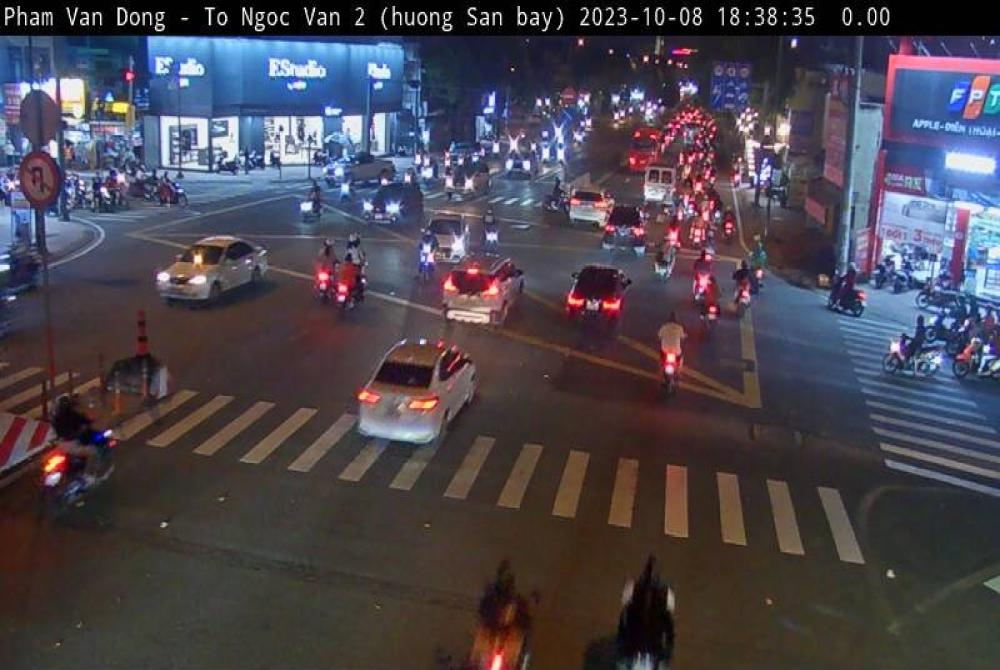car: (356, 338, 479, 444), (157, 235, 268, 305), (445, 252, 525, 326), (566, 266, 632, 326), (365, 182, 424, 226), (427, 211, 471, 265), (569, 186, 614, 229)
